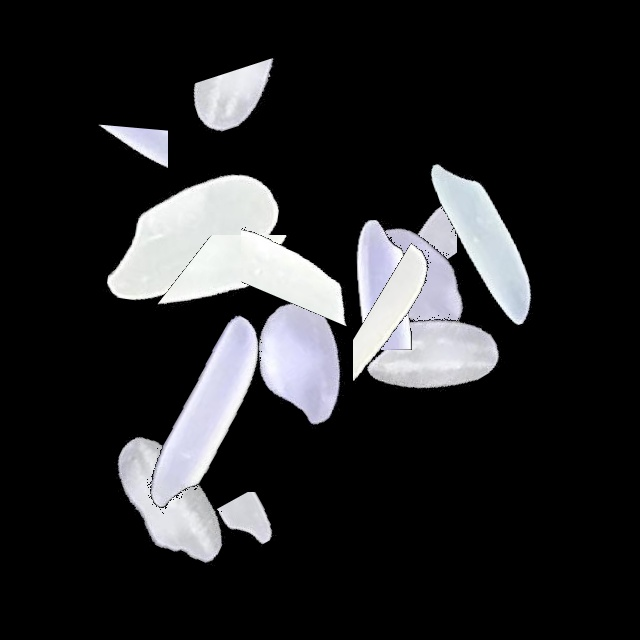Broken: (259, 186, 509, 350), (330, 94, 457, 344), (241, 114, 368, 364), (115, 235, 365, 354), (193, 1, 309, 251), (57, 56, 168, 306), (353, 228, 463, 478), (136, 492, 386, 598)
Full: (179, 235, 429, 485), (291, 154, 541, 404), (305, 232, 555, 482), (70, 114, 320, 364), (360, 115, 610, 365), (45, 373, 295, 623), (81, 288, 331, 538)
